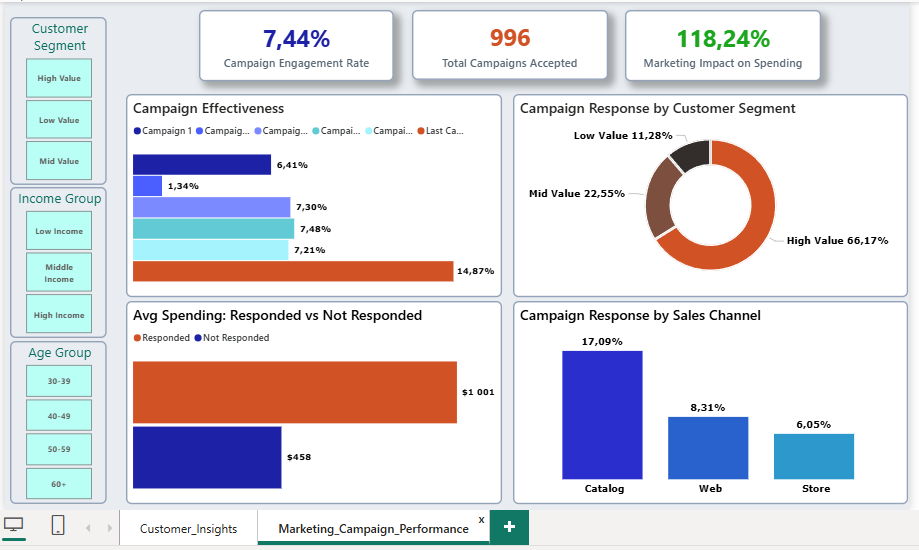

The dashboard page shown, as its layout file describes it:
{"tool":"powerbi","page":{"name":"Marketing_Campaign_Performance_en","canvas":[1280,720],"ordinal":1},"visuals":[{"type":"card","fields":{"Values":["_Measures.Campaign Engagement Rate (Universal)"]},"box":[275,11.9,276.4,100.6],"z":0},{"type":"card","fields":{"Values":["_Measures.Total Campaigns Accepted (Universal)"]},"box":[576.3,11.9,277.6,99],"z":1000},{"type":"card","title":"Marketing Impact on Spending","fields":{"Values":["_Measures.Marketing Impact %"]},"box":[878.7,11.9,277.8,100.6],"z":2000},{"type":"clusteredBarChart","title":"Avg Spending: Responded vs Not Responded","fields":{"Y":["_Measures.Non Responders Avg Spending (Virtual)","_Measures.Responders Avg Spending (Virtual)"]},"box":[171.5,423.8,532.9,287.7],"z":3000},{"type":"donutChart","title":"Campaign Response by Customer Segment","fields":{"Category":["marketing_campaign_features.Customer Segment"],"Y":["_Measures.Segment Response Rate (Virtual)"]},"box":[720,130.4,559.8,287.7],"z":4000},{"type":"clusteredColumnChart","title":"Campaign Response by Sales Channel","fields":{"Y":["_Measures.Channel Response Rate (Virtual)"],"Category":["marketing_campaign_features.Preferred_Channel"]},"box":[720,423.8,559.8,287.7],"z":5000},{"type":"slicer","title":"Customer Segment","fields":{"Values":["marketing_campaign_features.Customer Segment UA"]},"box":[7.1,21.7,137.5,238.1],"z":6000},{"type":"slicer","title":"Income Group","fields":{"Values":["marketing_campaign_features.Income Group"]},"box":[7.1,262.6,137.5,214],"z":7000},{"type":"slicer","title":"Age Group","fields":{"Values":["marketing_campaign_features.Age Group"]},"box":[7.1,480.5,137.5,231],"z":8000},{"type":"clusteredBarChart","title":"Campaign Effectiveness","fields":{"Y":["_Measures.Avg Response Rate"],"Category":["Campaign_Unpivoted.Campaign Name"]},"box":[170.3,130.5,534.4,288.3],"z":9000}]}

Visuals, with their boxes on the page's 1280x720 design canvas (x1, y1, x2, y2). These are canvas units, not pixel positions in the 919x550 screenshot, which may show the page scaled, cropped or inside an application window:
card - _Measures.Campaign Engagement Rate (Universal): <box>275,12,551,112</box>
card - _Measures.Total Campaigns Accepted (Universal): <box>576,12,854,111</box>
"Marketing Impact on Spending" card: <box>879,12,1156,112</box>
"Avg Spending: Responded vs Not Responded" clusteredBarChart: <box>172,424,704,712</box>
"Campaign Response by Customer Segment" donutChart: <box>720,130,1280,418</box>
"Campaign Response by Sales Channel" clusteredColumnChart: <box>720,424,1280,712</box>
"Customer Segment" slicer: <box>7,22,145,260</box>
"Income Group" slicer: <box>7,263,145,477</box>
"Age Group" slicer: <box>7,480,145,712</box>
"Campaign Effectiveness" clusteredBarChart: <box>170,130,705,419</box>
